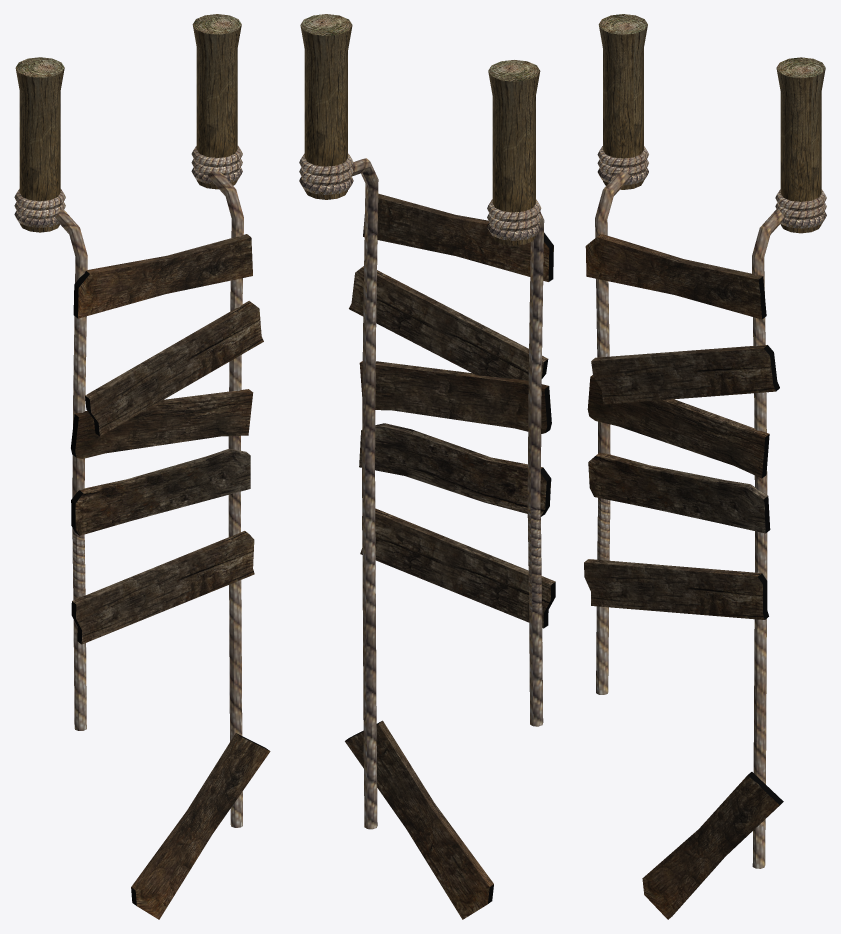
Rendered from SM_wLadderBroken.FBX.
3 views of the same model, side by side, from view 1: azimuth 30°, elevation 25°; view 2: azimuth 150°, elevation 25°; view 3: azimuth 330°, elevation 25° (orthographic). The views are drawn at different scales.
Parts seen in each view (by area): view 1: SM_wLadder_01; view 2: SM_wLadder_01; view 3: SM_wLadder_01.
Boxes of the visible parts, x1,y1,x2,y2 form: SM_wLadder_01: (14,14,270,919); SM_wLadder_01: (299,14,555,919); SM_wLadder_01: (584,14,826,919).
Size of what is drawn, in the model's own units: 200 by 730 by 84.06.
